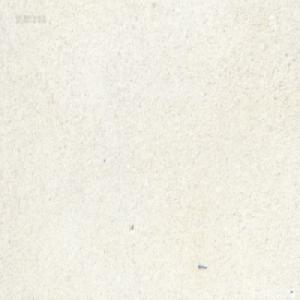Nail: (197, 262, 207, 269)
